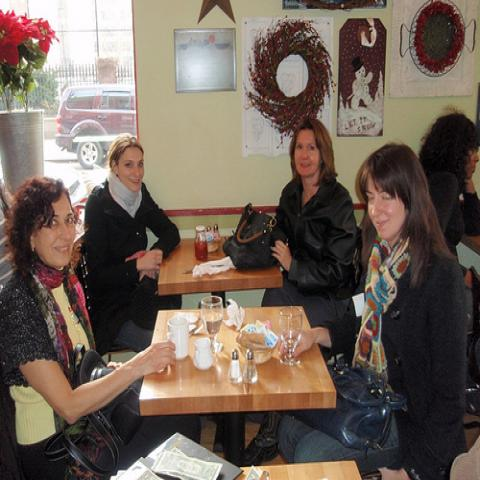car: (53, 82, 136, 168)
